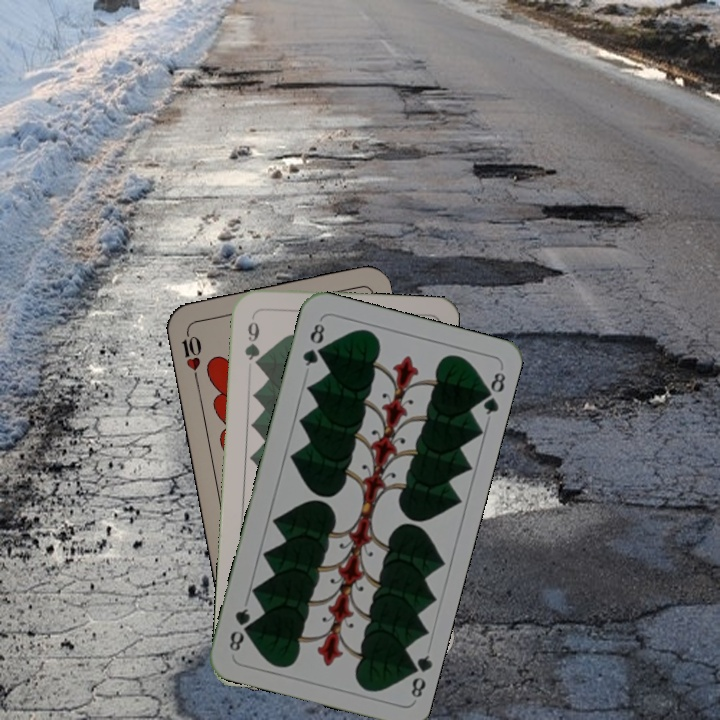G8: (402, 651, 435, 700), (298, 316, 327, 369)
G9: (240, 312, 263, 370)
H10: (178, 324, 204, 383)
